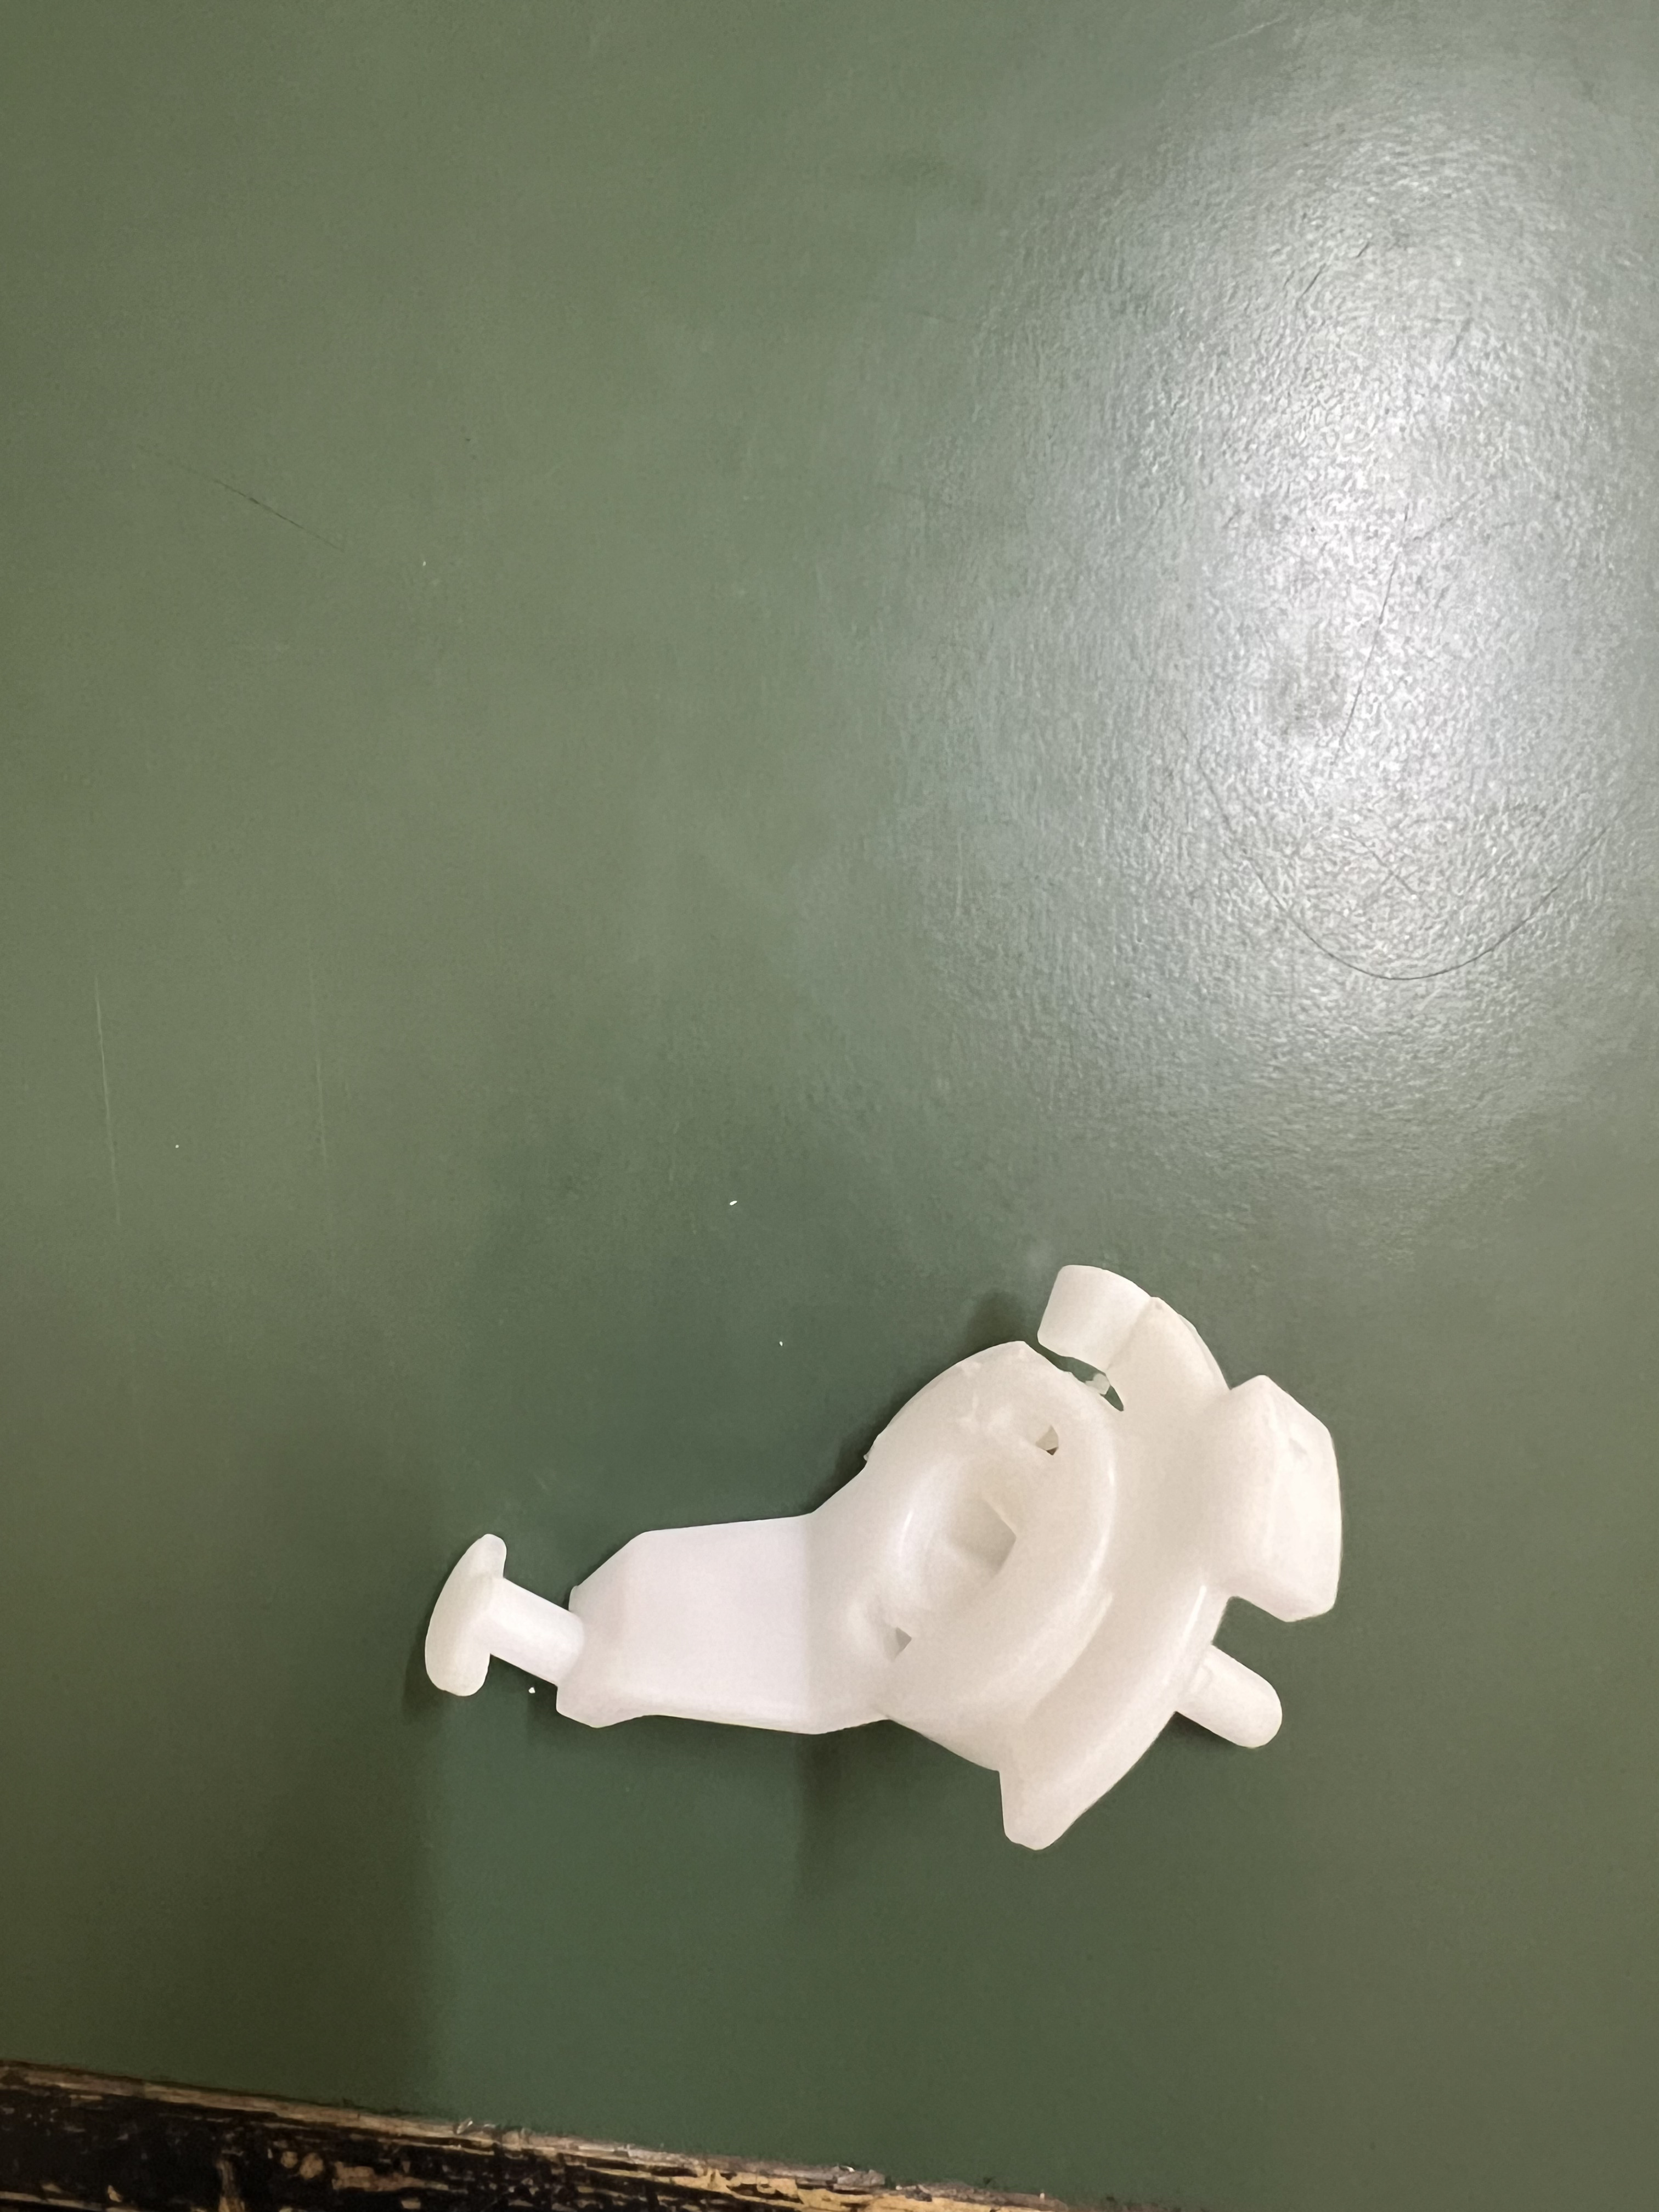drain_lever: (406, 1264, 1378, 1867)
